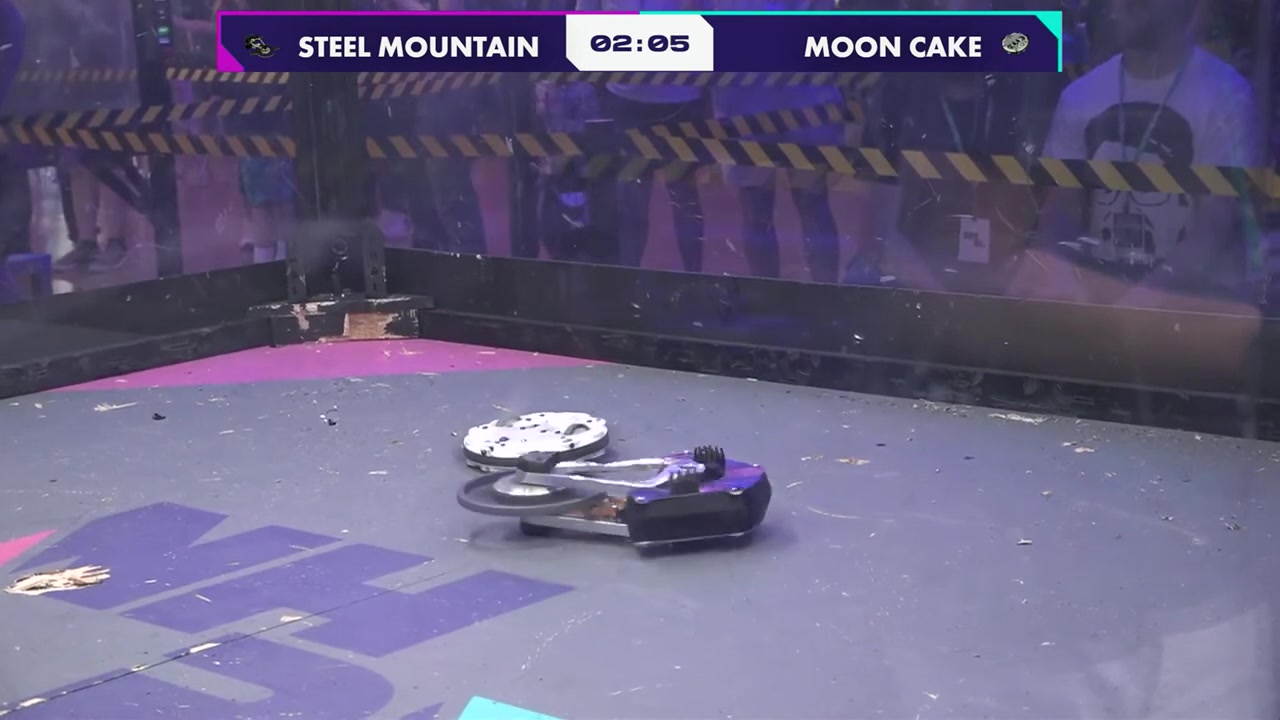combatbot: (458, 444, 773, 561), (460, 412, 607, 471)
